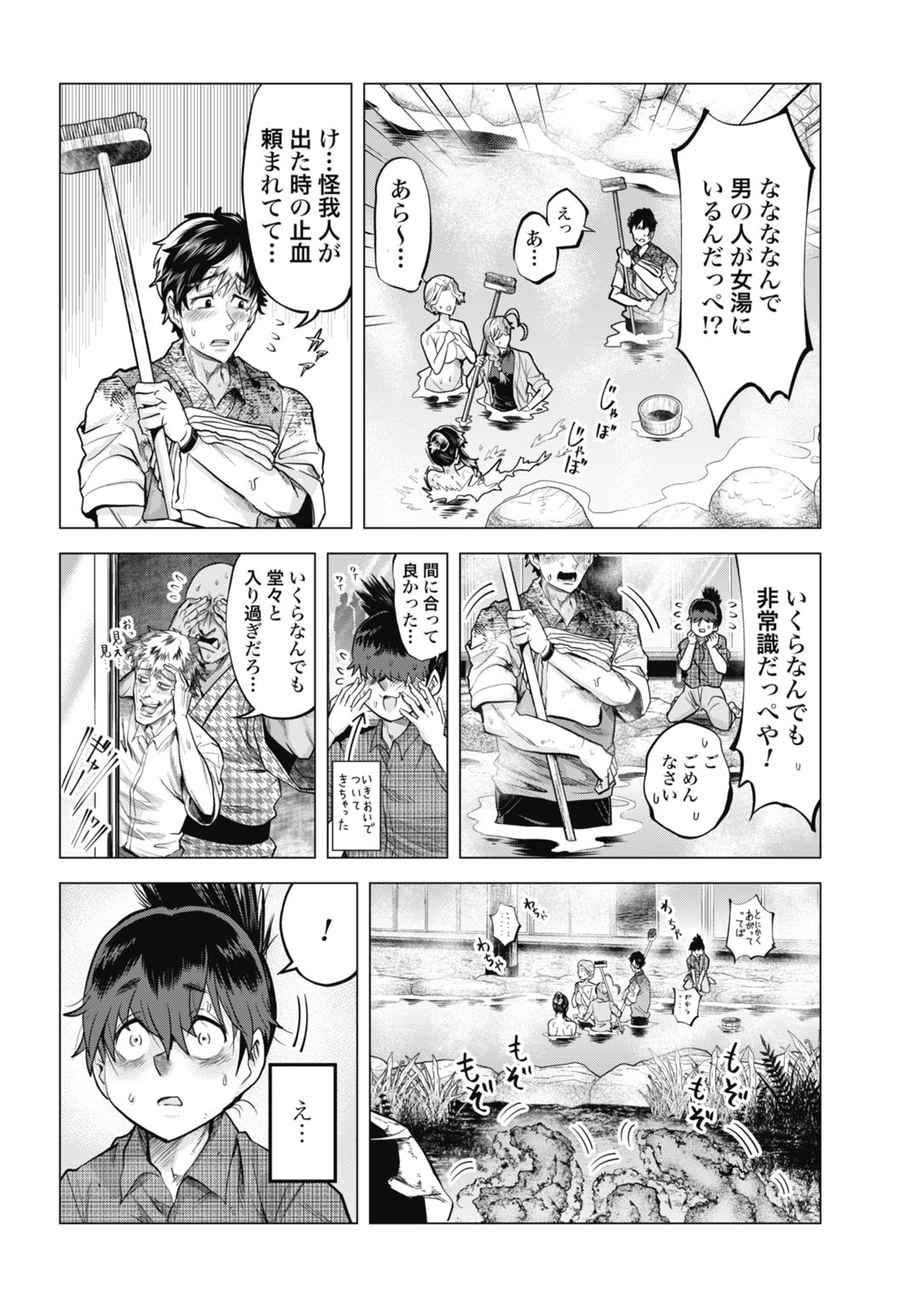bubbles: (661, 99, 818, 442), (235, 83, 352, 334), (727, 555, 821, 834), (223, 552, 315, 727), (638, 715, 734, 842), (261, 1059, 341, 1186), (373, 154, 438, 298), (272, 884, 357, 993), (510, 180, 593, 289), (389, 553, 445, 673), (327, 756, 385, 853), (723, 891, 783, 966), (668, 981, 705, 1031), (490, 899, 524, 950)
